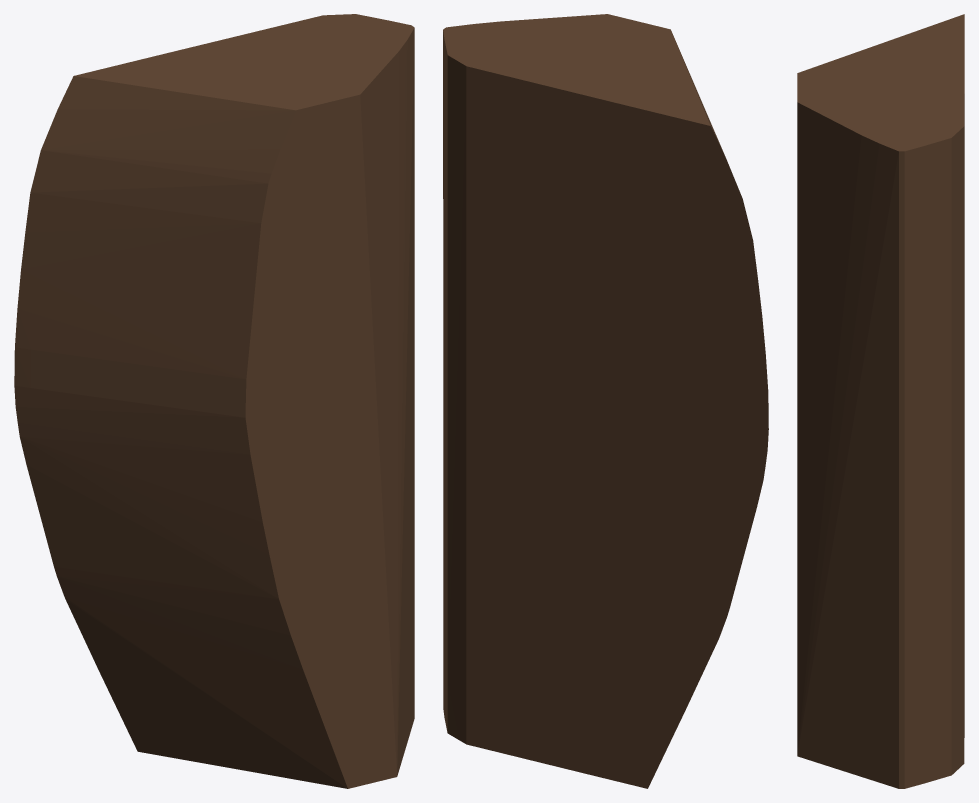
The model's file is left-shoulder-pitch-0_part_135.obj.
3 views of the same model, side by side, from view 1: azimuth 30°, elevation 25°; view 2: azimuth 150°, elevation 25°; view 3: azimuth 270°, elevation 25° (orthographic). The views are drawn at different scales.
Size of the model in its own units: 0.0116 by 0.021 by 0.005.
